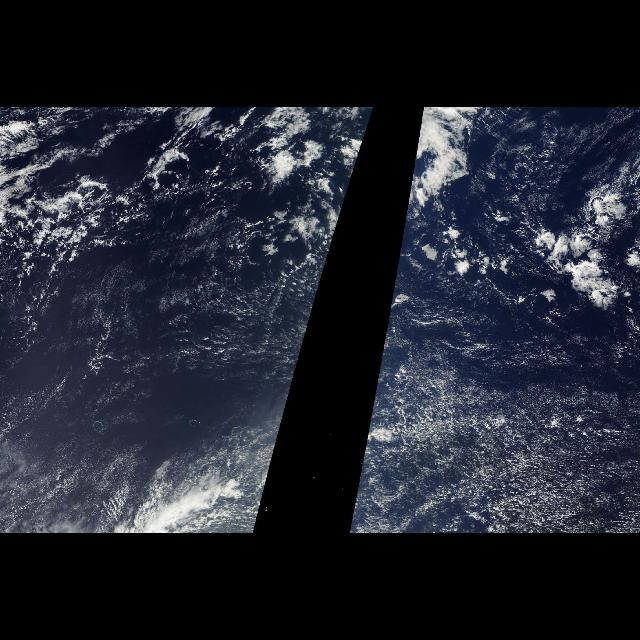Gravel: (0, 126, 210, 250), (496, 150, 640, 322)
Sugar: (4, 262, 306, 534), (378, 323, 634, 533)
